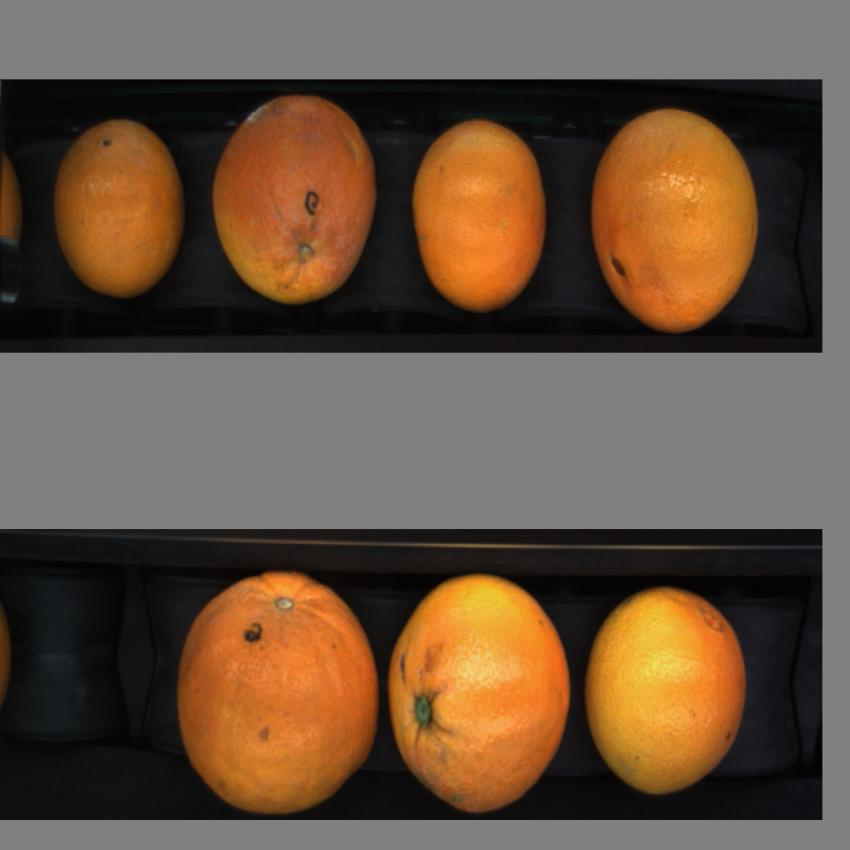Buen estado: (171, 570, 387, 812), (382, 570, 571, 816), (586, 105, 772, 335), (579, 582, 756, 799), (400, 110, 552, 313), (50, 116, 191, 301)
Mal estado: (210, 92, 385, 312)
